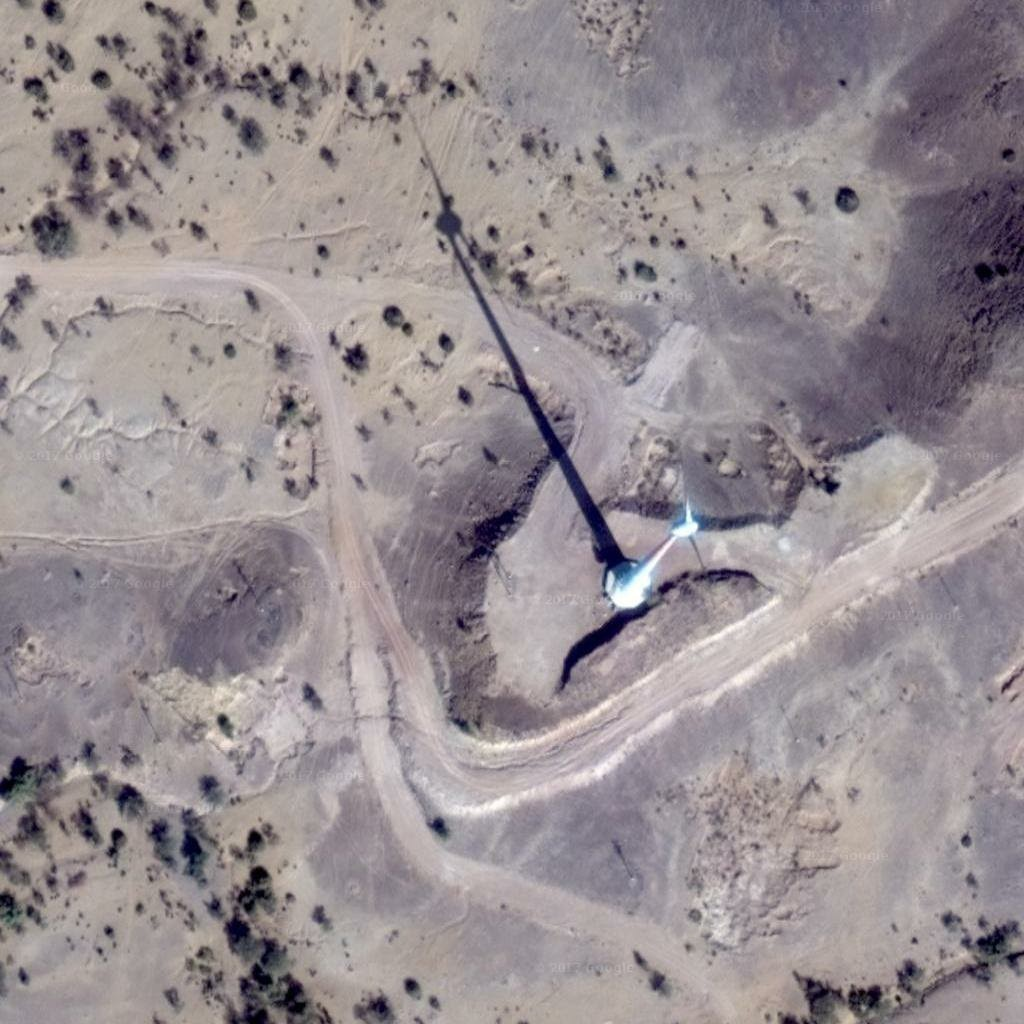Windmill: (399, 103, 638, 561)
